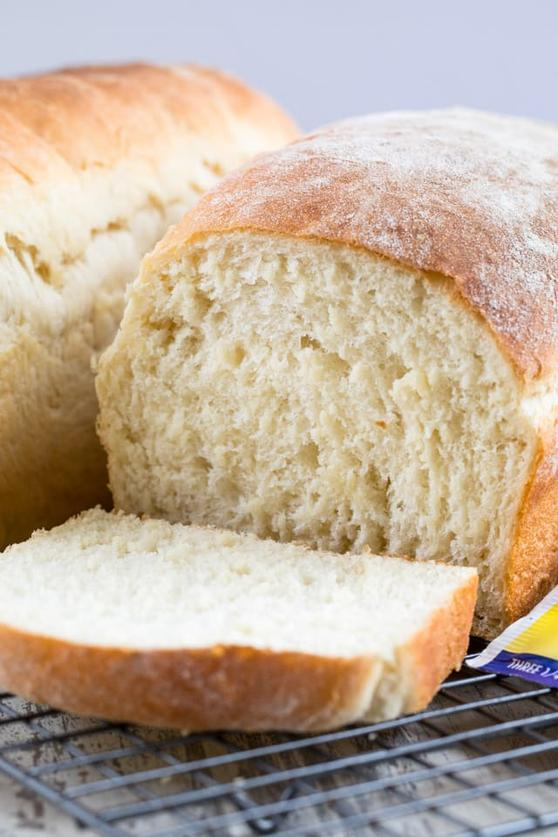white_bread: (114, 75, 558, 620)
